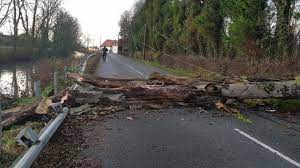obstacle: (62, 65, 300, 117)
